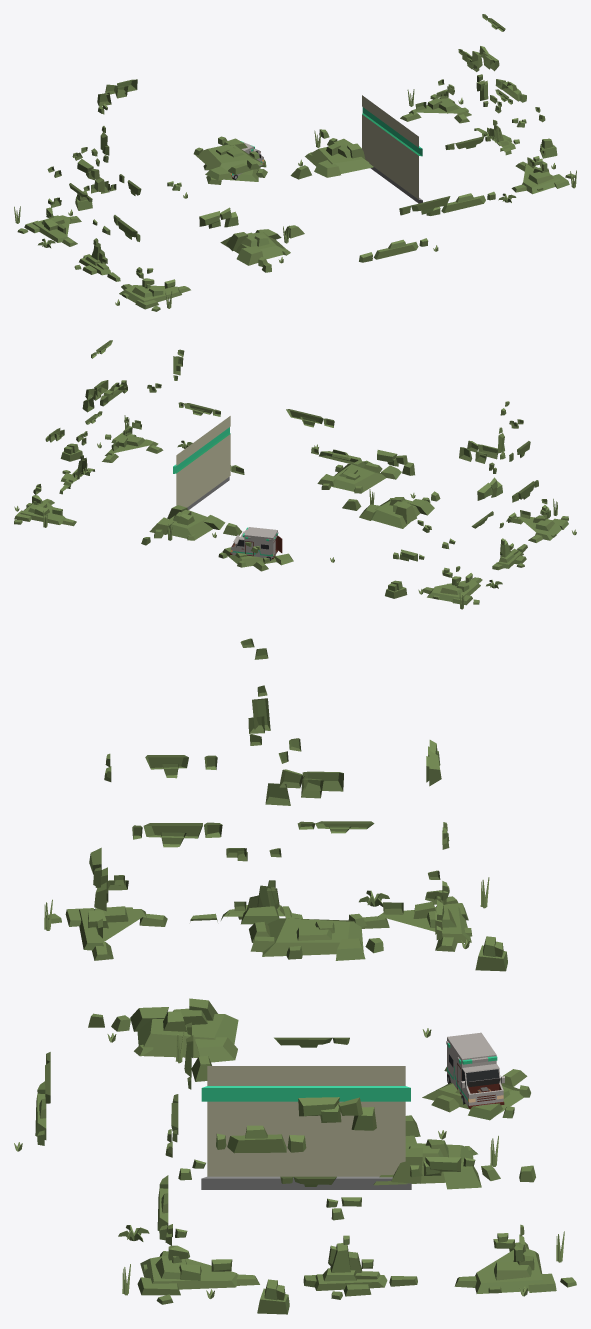
File: SA_Bld_HospitalBuildingMain_Growth_01.gltf
The picture shows the model from 3 angles, top to bottom: view 1: azimuth 30°, elevation 25°; view 2: azimuth 150°, elevation 25°; view 3: azimuth 270°, elevation 25°; orthographic projection. The views are drawn at different scales.
Parts seen in each view (by area): view 1: SA_Bld_HospitalBuildingMain_Growth_01; view 2: SA_Bld_HospitalBuildingMain_Growth_01; view 3: SA_Bld_HospitalBuildingMain_Growth_01.
Boxes of the visible parts, box(x1,y1,x2,y2) form: SA_Bld_HospitalBuildingMain_Growth_01: box(14, 14, 576, 311); SA_Bld_HospitalBuildingMain_Growth_01: box(14, 340, 576, 609); SA_Bld_HospitalBuildingMain_Growth_01: box(14, 638, 576, 1314).
Bounding box in the file's own units: 74.07 × 24.22 × 42.28.
Materials: 1 (1 with a texture image).
